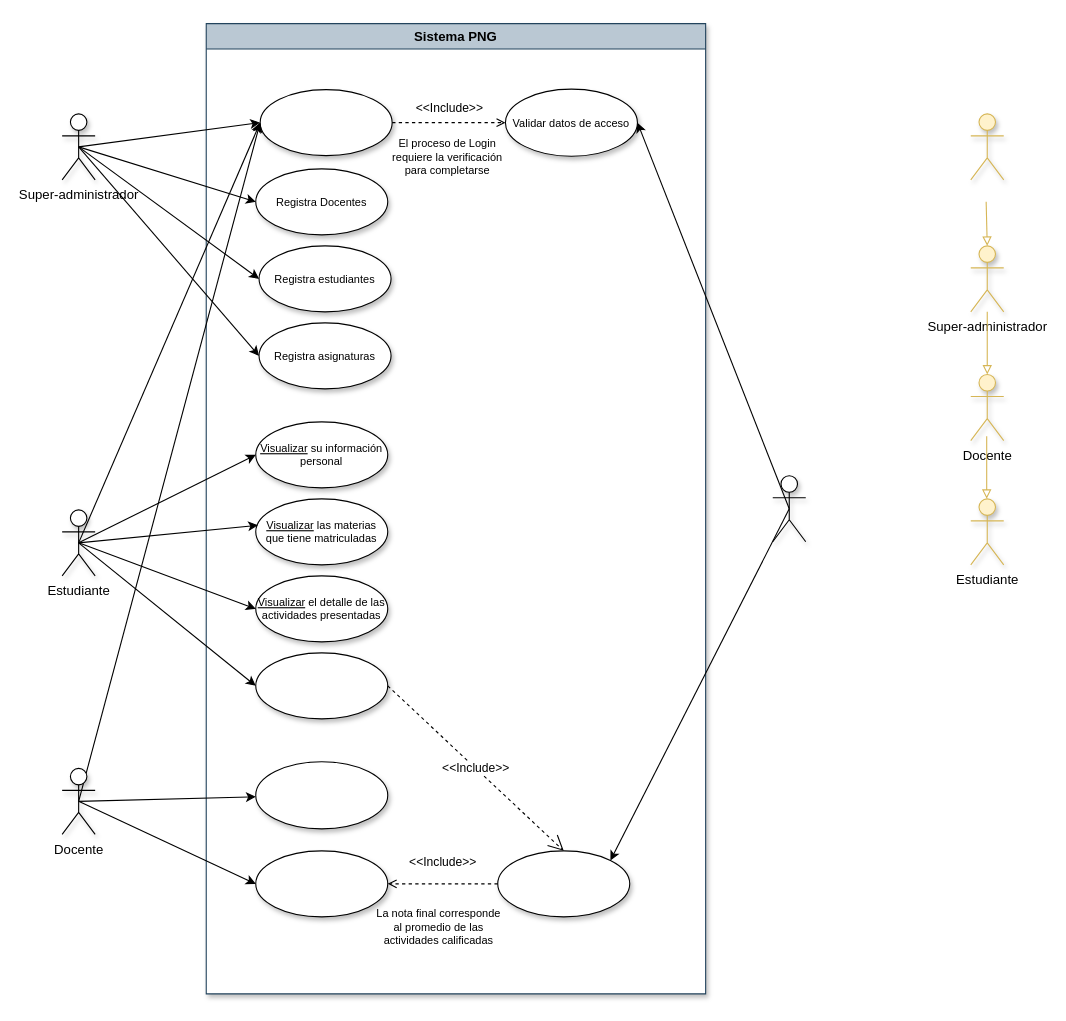
This 1066x1021 diagram has some shape labels left out. The centre of each missing label's shape, as x and y in pixels:
"Calificar dichas actividades y realimentar" goes at point 322,885.
"EAN <<Sistema>>" goes at point 789,509.
"Generar nota final de la materia" goes at point 564,885.
"Login" goes at point 327,123.
"Registrar actividades en cada una de las materias que tiene asignadas" goes at point 322,796.
"Usuario" goes at point 987,148.
"Visualizar la nota obtenida en cada materia" goes at point 322,687.
